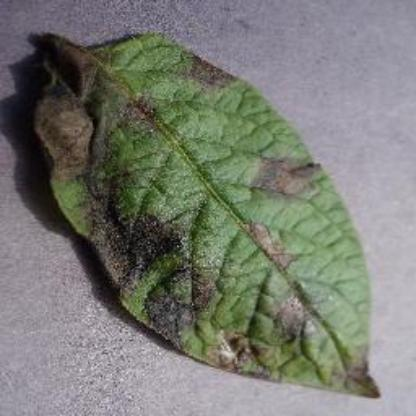Late-Blight: (26, 20, 398, 408)
